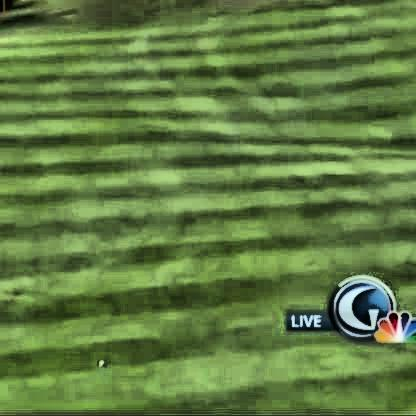golfball: (95, 356, 102, 363)
